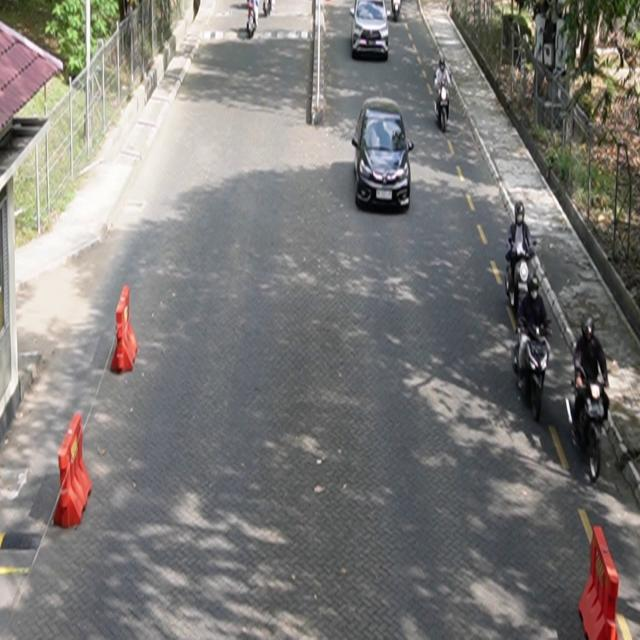car: (352, 98, 415, 213), (349, 1, 390, 61)
